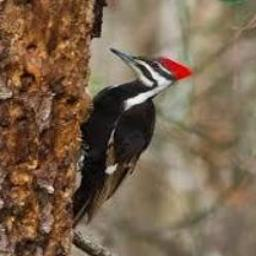Woodpecker: (71, 48, 191, 228)
